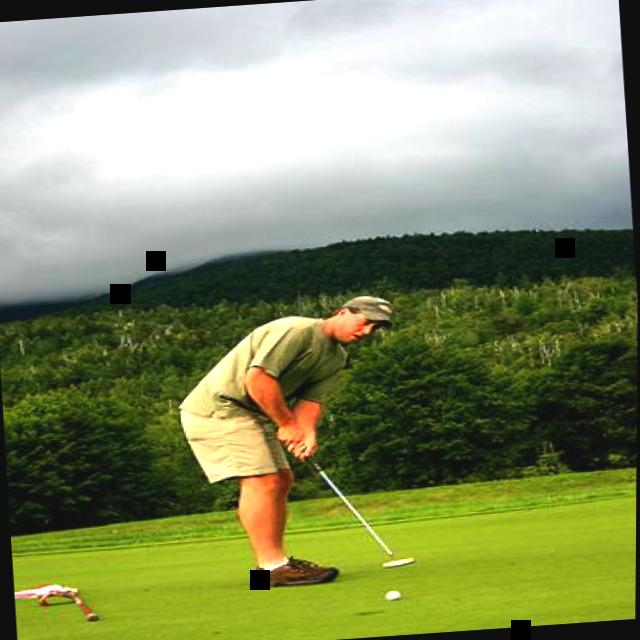golf ball: (370, 578, 415, 607)
